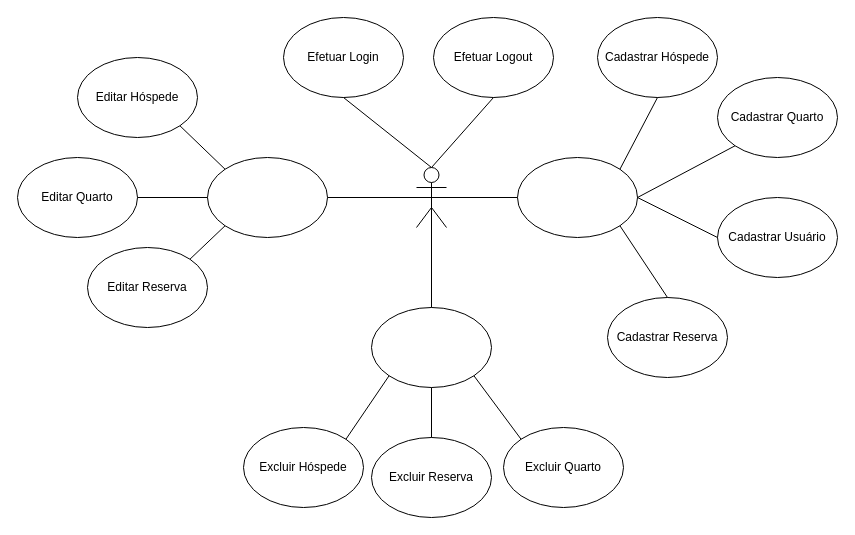
Some shapes in this 855 by 535 pixel diagram are drawn without their labels. The shapes that lost their labels are listed below. From the top down, each one's centre as x and y in pixels, then its label:
point (267, 197): Realizar Edição
point (431, 197): Usuário
point (577, 197): Realizar Cadastro
point (431, 347): Realizar Exclusão
